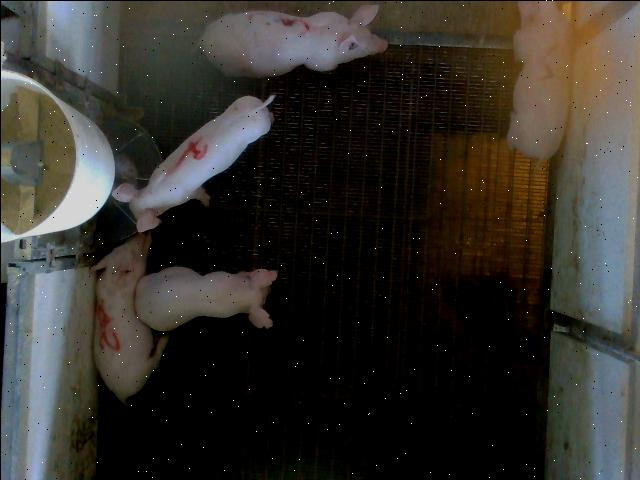pig-2: (506, 1, 570, 159)
pig-3: (199, 4, 386, 75)
pig-4: (111, 95, 274, 229)
pig-5: (91, 232, 169, 405)
